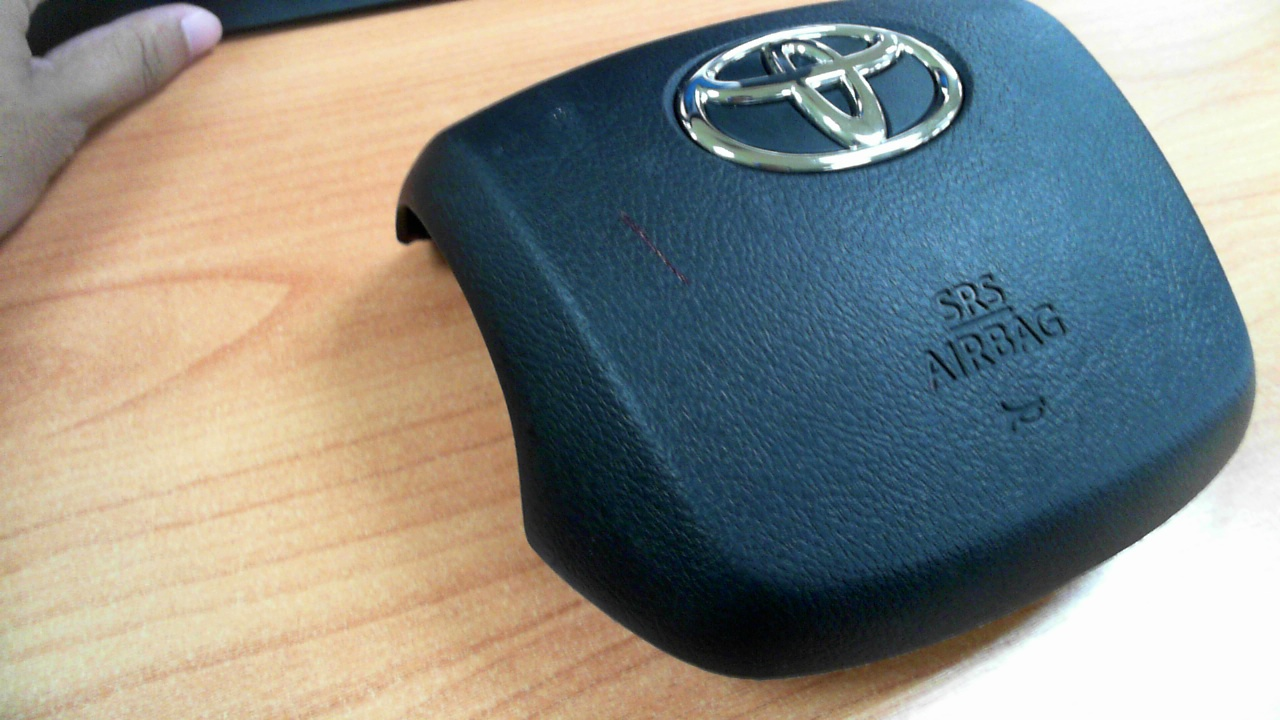Airbag: (395, 0, 1256, 681)
Toyota: (680, 22, 963, 172)
